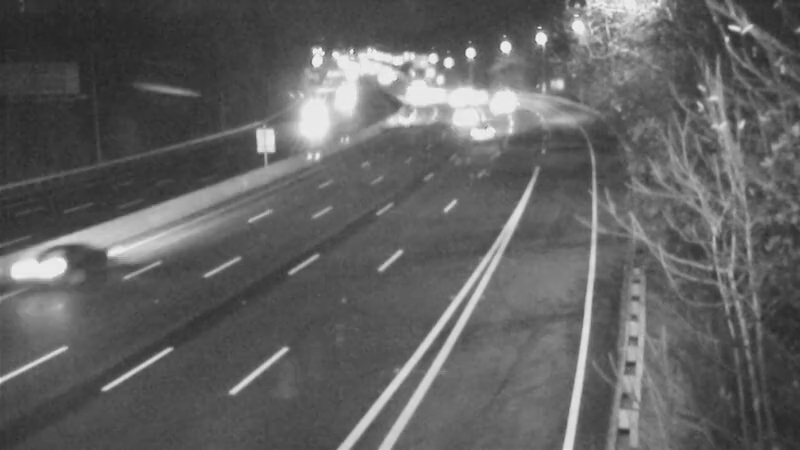vehicle: (10, 232, 90, 312), (471, 86, 521, 136), (439, 90, 489, 140), (379, 92, 429, 142), (454, 107, 504, 157)
